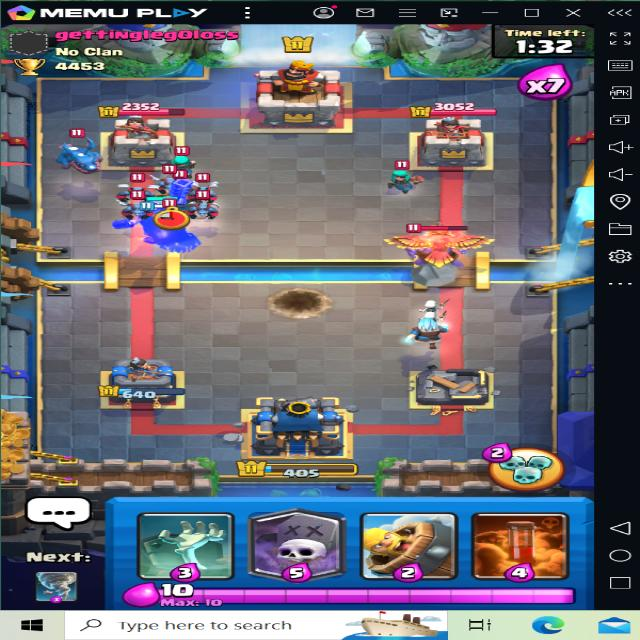bowler: (400, 222, 473, 274)
electro-dragon: (44, 122, 110, 173)
minion: (185, 194, 222, 221), (187, 172, 225, 198), (118, 182, 157, 201), (152, 171, 182, 195), (123, 196, 153, 218)
rascal-girl: (379, 159, 418, 191), (163, 145, 199, 175)
